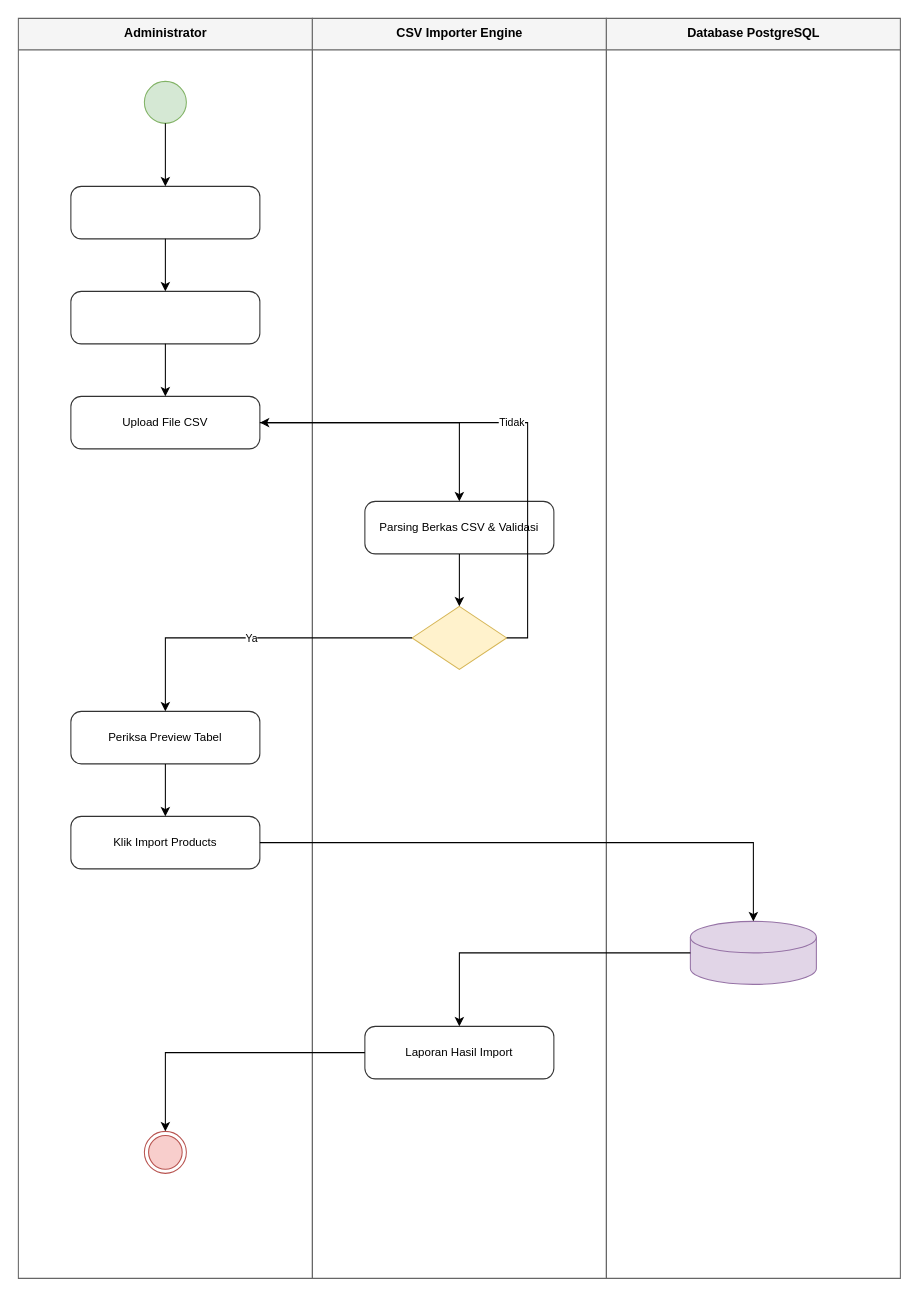
This 919x1297 diagram has some shape labels left out. Here are the shapes that lost their labels. From the top down, the centre of each, then its label:
(165,212): Download CSV Template
(165,317): Isi Data & JSON Varian di Spreadsheet
(459,637): Data Valid?
(752,952): Batch Write ke DB
